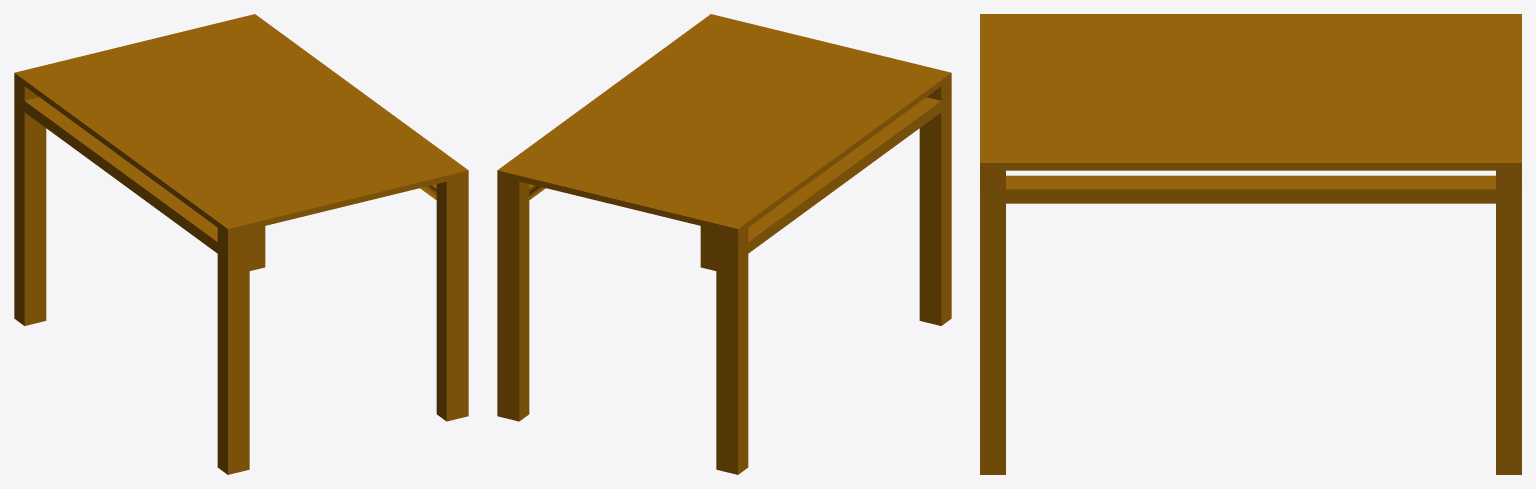
File: Mesa.fbx
The picture shows the model from 3 angles, left to right: view 1: azimuth 30°, elevation 25°; view 2: azimuth 150°, elevation 25°; view 3: azimuth 270°, elevation 25°; orthographic projection. The views are drawn at different scales.
Parts seen in each view (by area): view 1: Mesa(amen); view 2: Mesa(amen); view 3: Mesa(amen).
Part boxes in pixels (box(x1,y1,x2,y2)): Mesa(amen): box(14, 14, 468, 474); Mesa(amen): box(497, 14, 951, 474); Mesa(amen): box(980, 14, 1521, 474).
Size of the model in its own units: 437 by 427 by 672.
